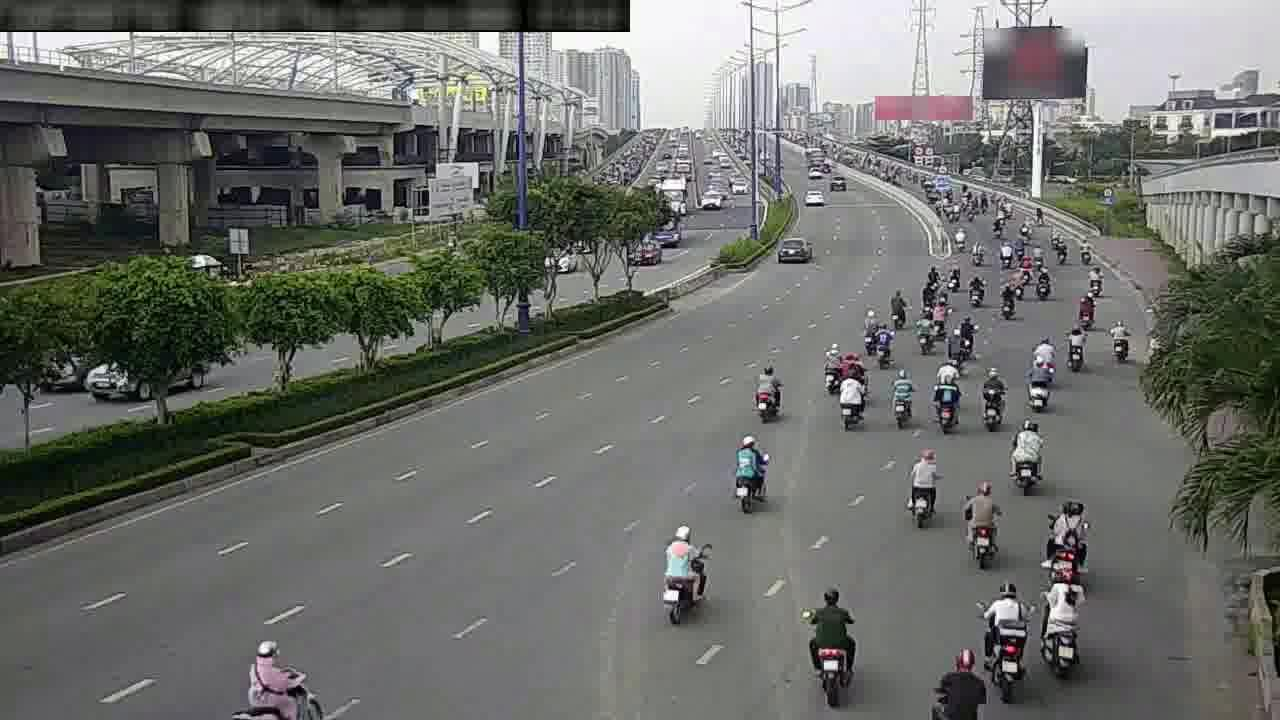container: (771, 228, 815, 265)
motorbike: (236, 631, 327, 716), (801, 572, 862, 679), (652, 526, 713, 621), (1029, 575, 1086, 671), (979, 584, 1032, 683), (1036, 499, 1093, 587), (929, 641, 995, 709), (723, 435, 772, 514), (957, 485, 1006, 561), (898, 446, 945, 524), (1002, 420, 1046, 488), (745, 362, 786, 424), (832, 369, 870, 435), (973, 373, 1011, 434), (882, 367, 919, 427), (927, 374, 963, 434), (1018, 355, 1055, 413), (1102, 315, 1140, 369), (1025, 331, 1062, 379), (816, 342, 848, 392), (928, 352, 962, 399), (1059, 322, 1090, 370), (881, 285, 912, 329), (1068, 290, 1100, 332), (948, 314, 979, 357), (909, 311, 939, 355), (840, 333, 869, 378), (991, 281, 1021, 322), (962, 271, 991, 311), (1029, 265, 1057, 303), (1081, 263, 1108, 300), (913, 284, 936, 321), (931, 295, 953, 333), (941, 257, 964, 291), (873, 321, 892, 362), (859, 308, 878, 349)
